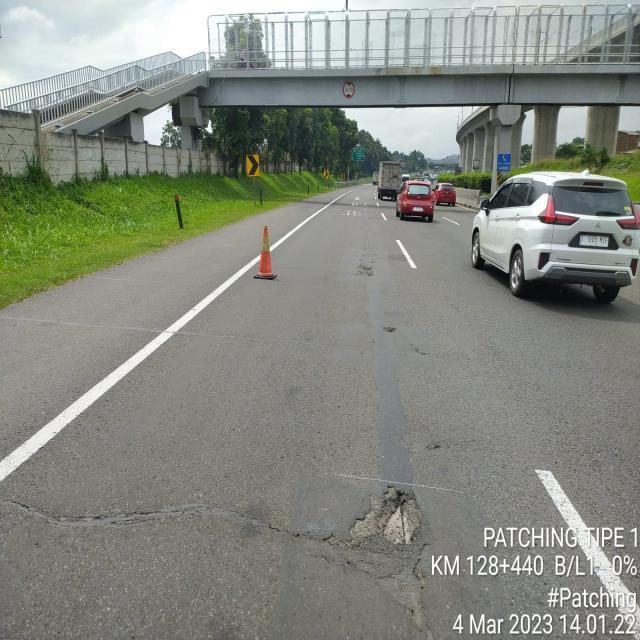Buraco: (320, 483, 427, 552), (350, 264, 375, 278), (380, 325, 401, 336)
